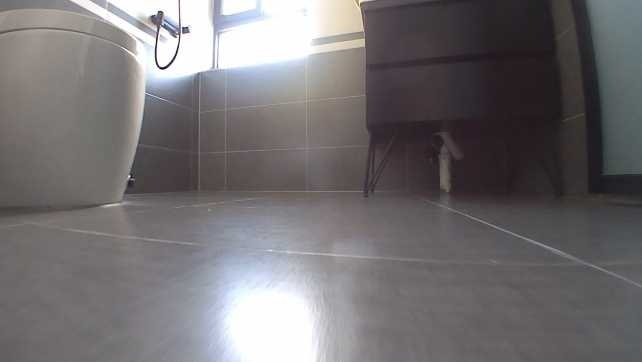toilet: (0, 6, 148, 213)
